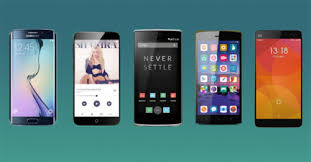bphone: (5, 27, 57, 126), (68, 27, 120, 126), (130, 27, 182, 126), (191, 25, 243, 124), (252, 27, 304, 126)
